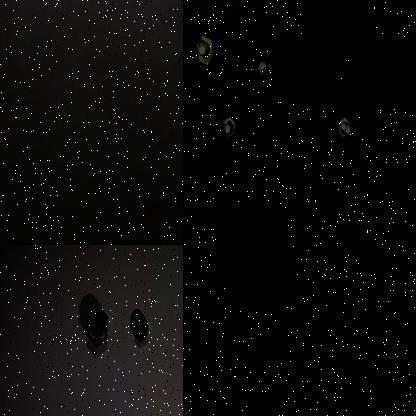Bolts: (195, 30, 216, 76), (361, 46, 384, 87), (216, 109, 238, 143), (334, 110, 352, 140), (323, 0, 351, 16), (256, 61, 272, 77)
NUTS: (84, 299, 110, 358), (132, 307, 152, 347)
